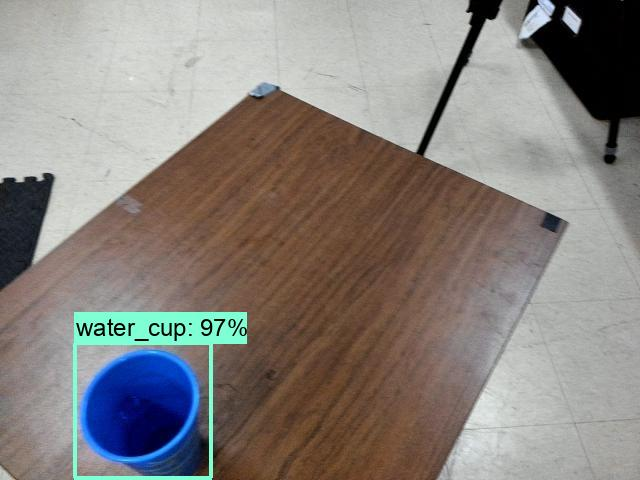water_cup: (79, 343, 207, 480)
